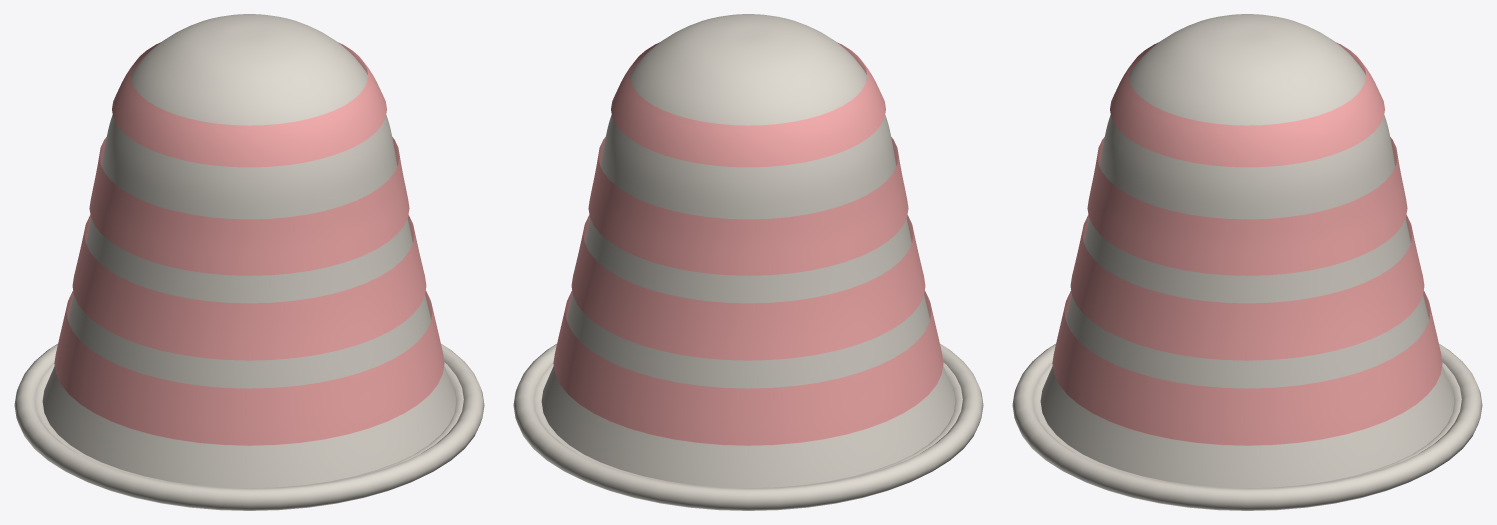
File: striped_tee.glb
3 views of the same model, side by side, from view 1: azimuth 30°, elevation 25°; view 2: azimuth 150°, elevation 25°; view 3: azimuth 270°, elevation 25° (orthographic).
Visible parts, largest first — view 1: BodyBoy, BodyGirl; view 2: BodyBoy, BodyGirl; view 3: BodyBoy, BodyGirl.
Boxes of the visible parts, x1,y1,x2,y2 form: BodyBoy: [35, 14, 463, 488]; BodyGirl: [14, 344, 484, 510]; BodyBoy: [534, 14, 962, 488]; BodyGirl: [513, 344, 983, 510]; BodyBoy: [1033, 14, 1461, 488]; BodyGirl: [1012, 344, 1482, 510].
Bounding box in the file's own units: 0.4568 × 0.4141 × 0.4568.
